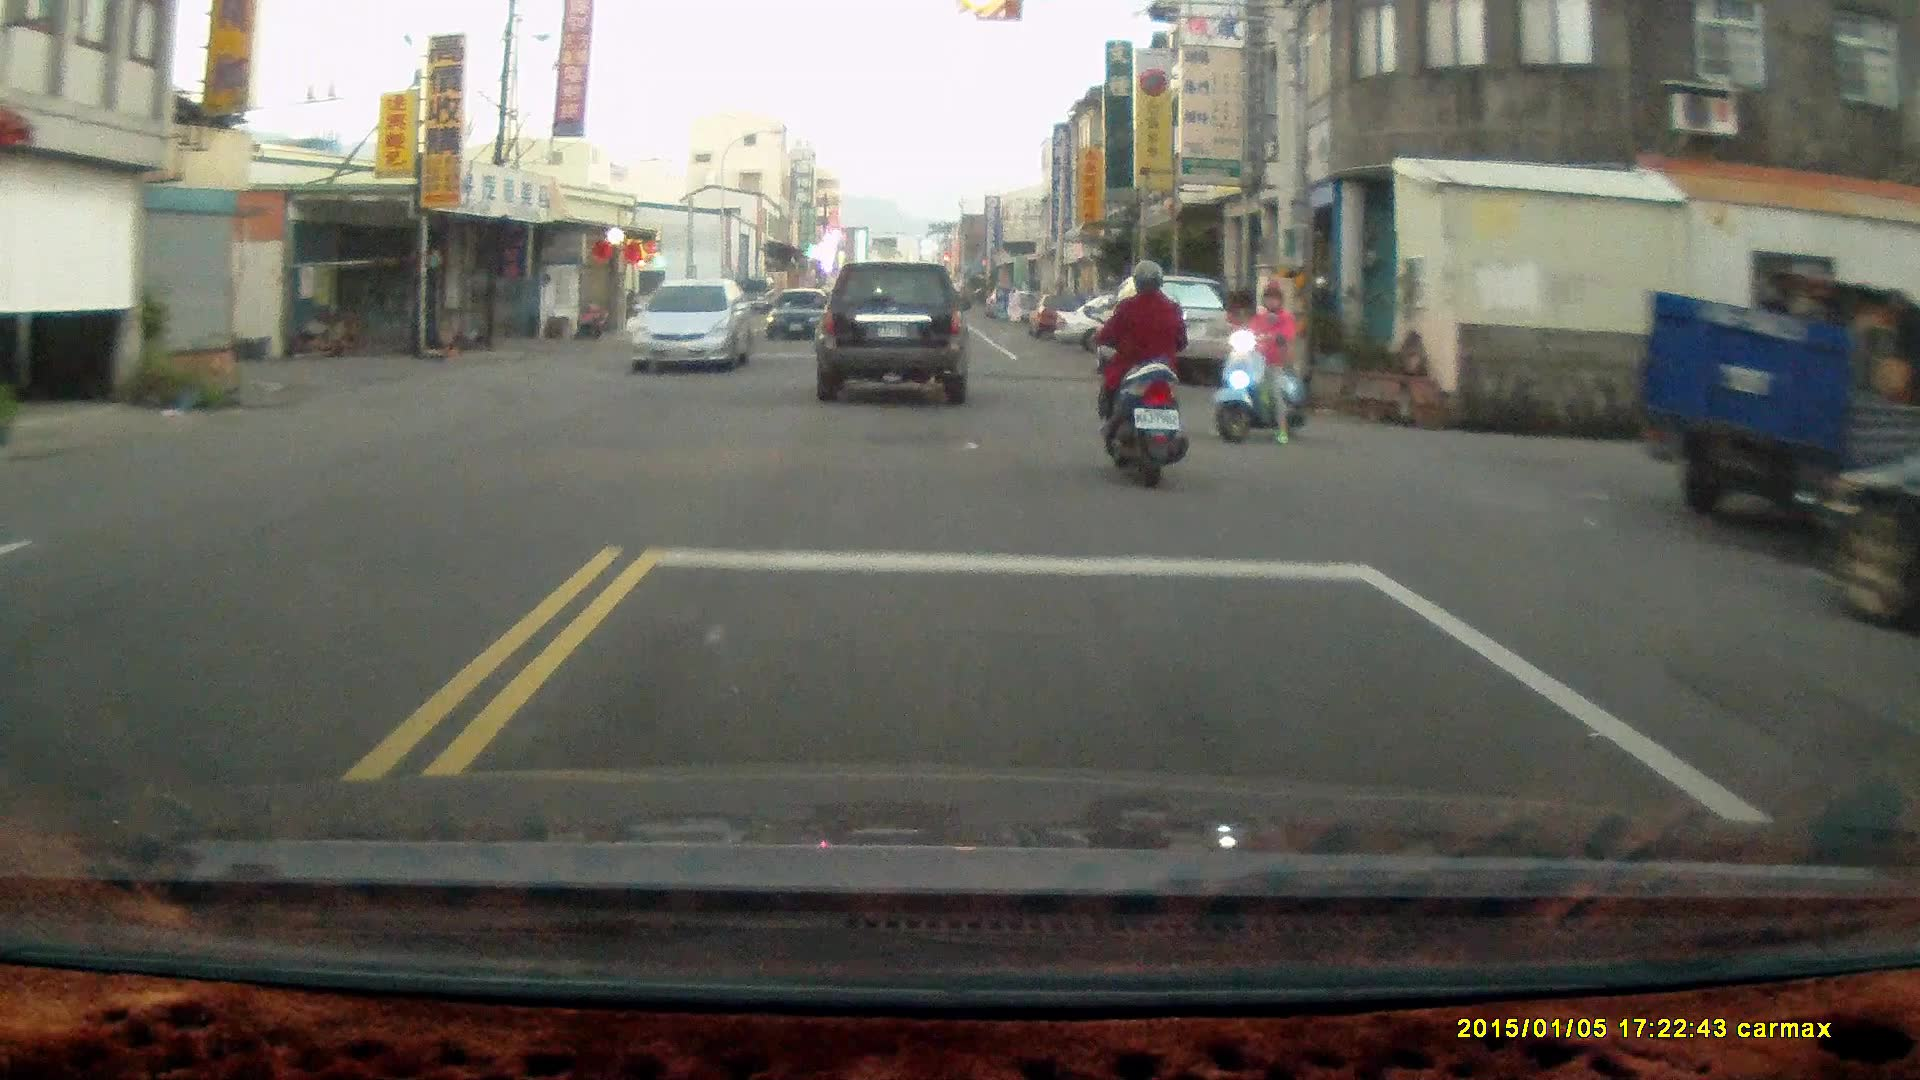rider: (1098, 254, 1187, 490), (1212, 270, 1310, 444)
vehicle: (1631, 250, 1920, 546), (1820, 363, 1920, 630), (815, 254, 978, 403), (1100, 274, 1243, 384), (623, 279, 759, 372), (763, 288, 830, 345)
